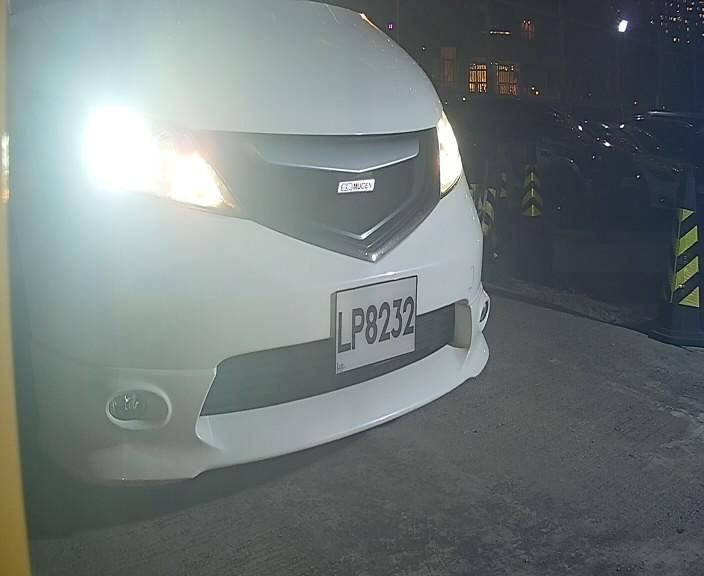privatecar: (1, 10, 507, 482)
